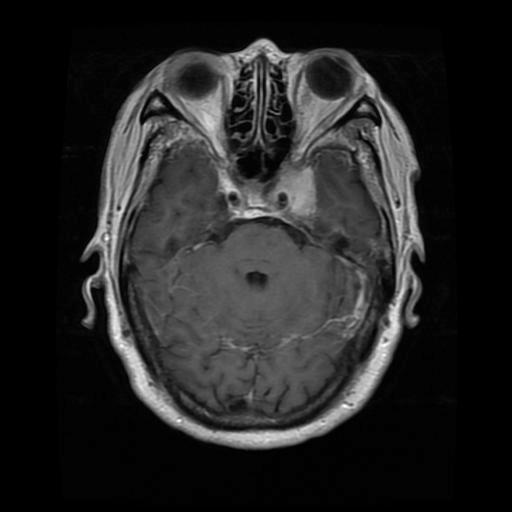Tumour-Pituitary: (266, 160, 340, 246)
